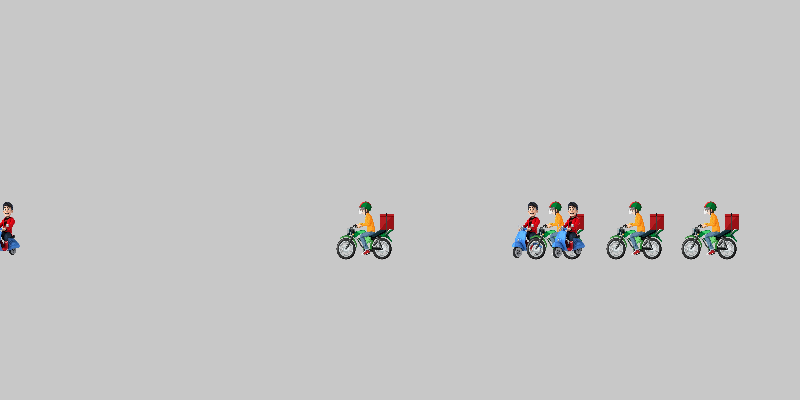helmet: (335, 200, 395, 260), (525, 200, 585, 260), (605, 200, 665, 260), (680, 200, 740, 260)
no_helmet: (500, 200, 560, 260), (540, 200, 600, 260), (0, 200, 35, 260)
